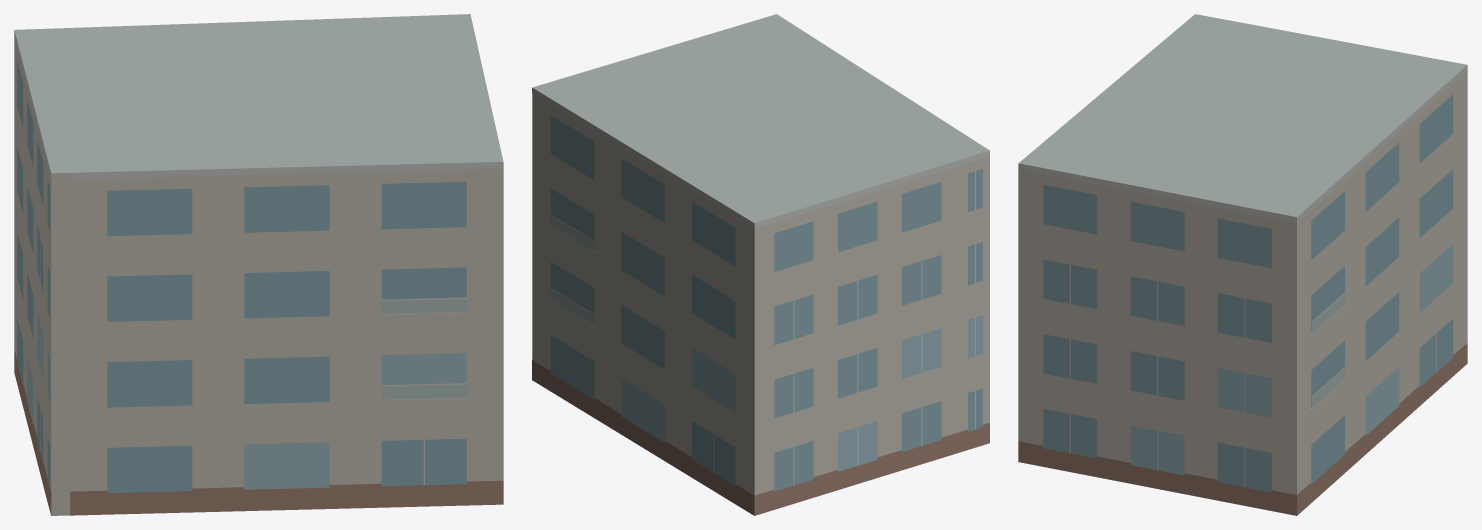
The model's file is survey-upis-32969245.glb.
3 views of the same model, side by side, from view 1: azimuth 30°, elevation 25°; view 2: azimuth 150°, elevation 25°; view 3: azimuth 270°, elevation 25° (orthographic). The views are drawn at different scales.
Parts seen in each view (by area): view 1: survey-upis-32969245.tmp; view 2: survey-upis-32969245.tmp; view 3: survey-upis-32969245.tmp.
Boxes of the visible parts, x1,y1,x2,y2 form: survey-upis-32969245.tmp: [14, 14, 503, 515]; survey-upis-32969245.tmp: [532, 14, 989, 515]; survey-upis-32969245.tmp: [1018, 14, 1467, 515].
Bounding box in the file's own units: 18.09 × 12.4 × 16.9.
